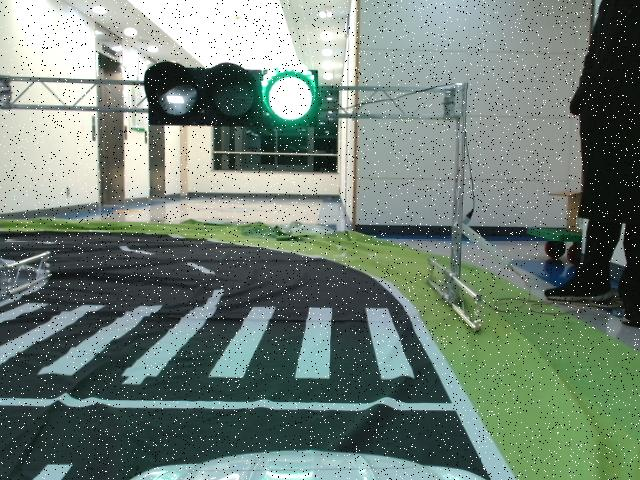crosswalk: (0, 300, 416, 380)
traffic light-green-: (145, 62, 319, 126)
